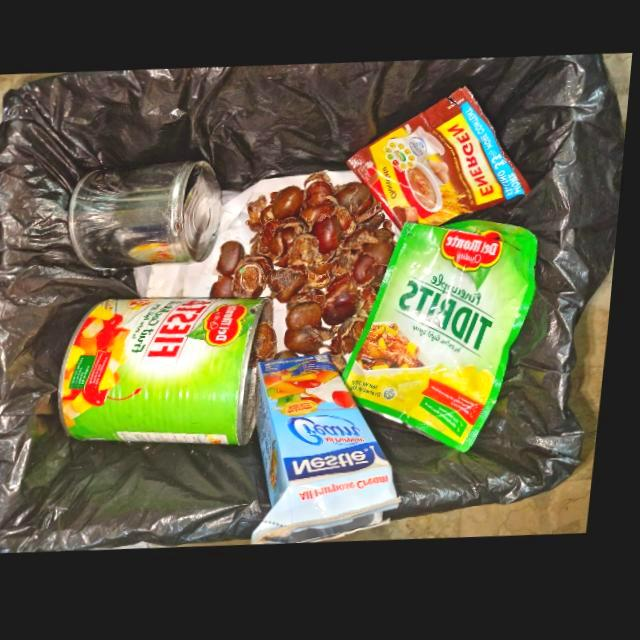aluminum: (65, 299, 281, 449), (72, 163, 225, 273)
food_wrapper: (348, 224, 543, 459)
plastic_bag: (327, 278, 368, 329)
plastic_sachet: (349, 92, 534, 231)
